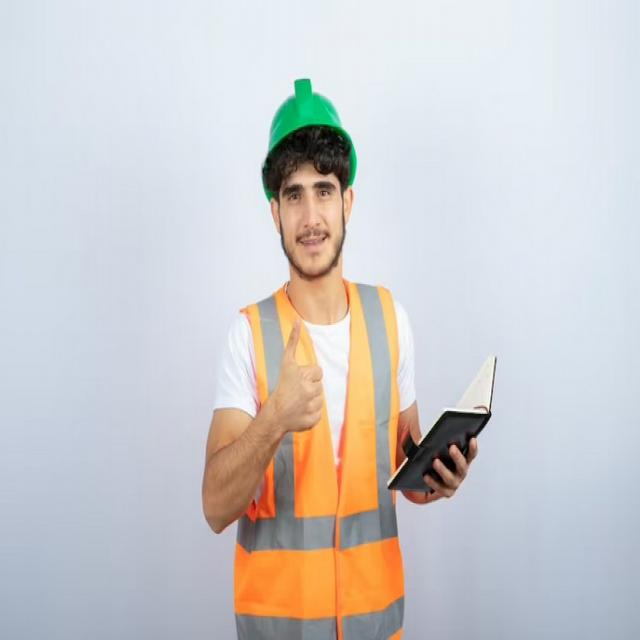helmet: (250, 56, 364, 206)
